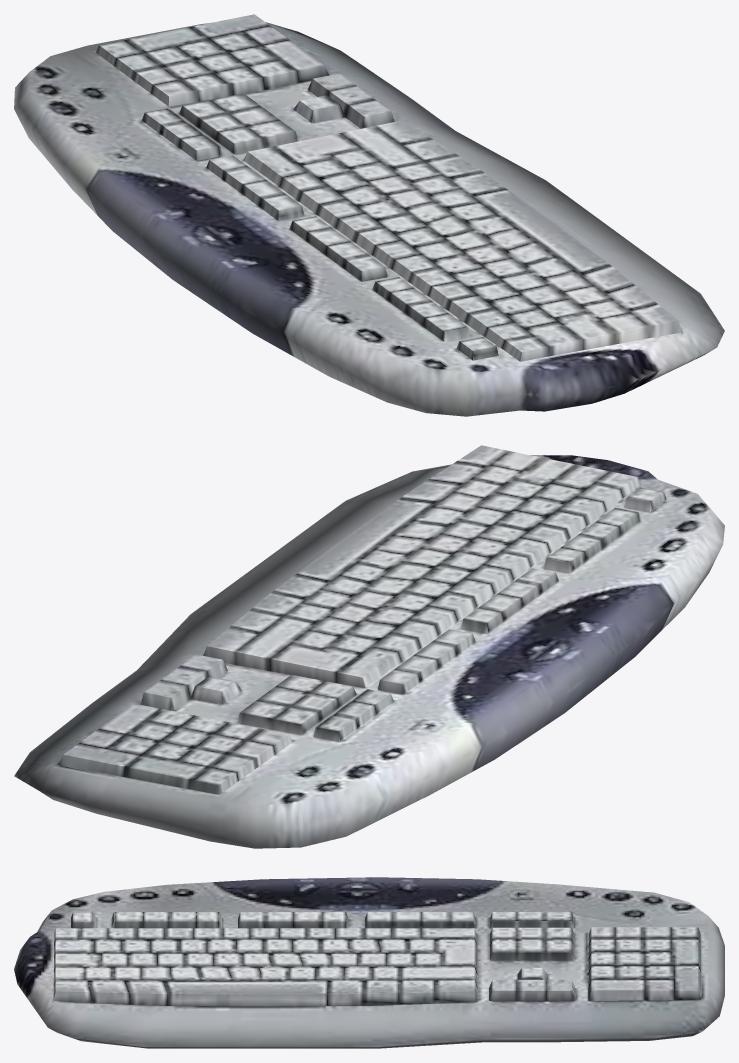
The model's file is computer_keyboard.glb.
3 views of the same model, one above another, from view 1: azimuth 30°, elevation 25°; view 2: azimuth 150°, elevation 25°; view 3: azimuth 270°, elevation 25° (orthographic). The views are drawn at different scales.
Parts seen in each view (by area): view 1: 0_computer; view 2: 0_computer; view 3: 0_computer.
Boxes of the visible parts, box(x1,y1,x2,y2) form: 0_computer: box(14, 14, 724, 416); 0_computer: box(14, 445, 724, 848); 0_computer: box(14, 877, 724, 1048).
Bounding box in the file's own units: 0.2799 × 0.0349 × 0.5864.
Materials: 1 (1 with a texture image).
